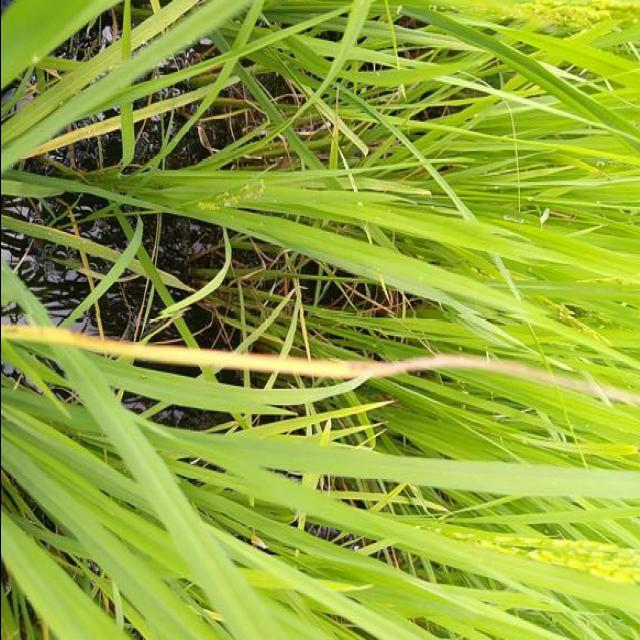Leaf Blight: (0, 325, 597, 395)
